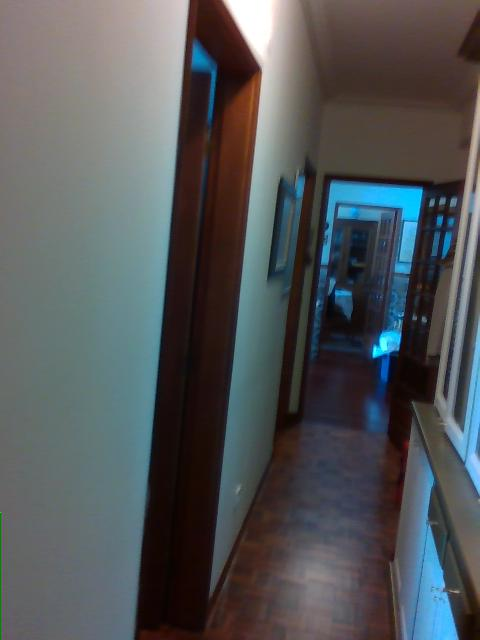door: (387, 183, 466, 433), (362, 211, 397, 345)
